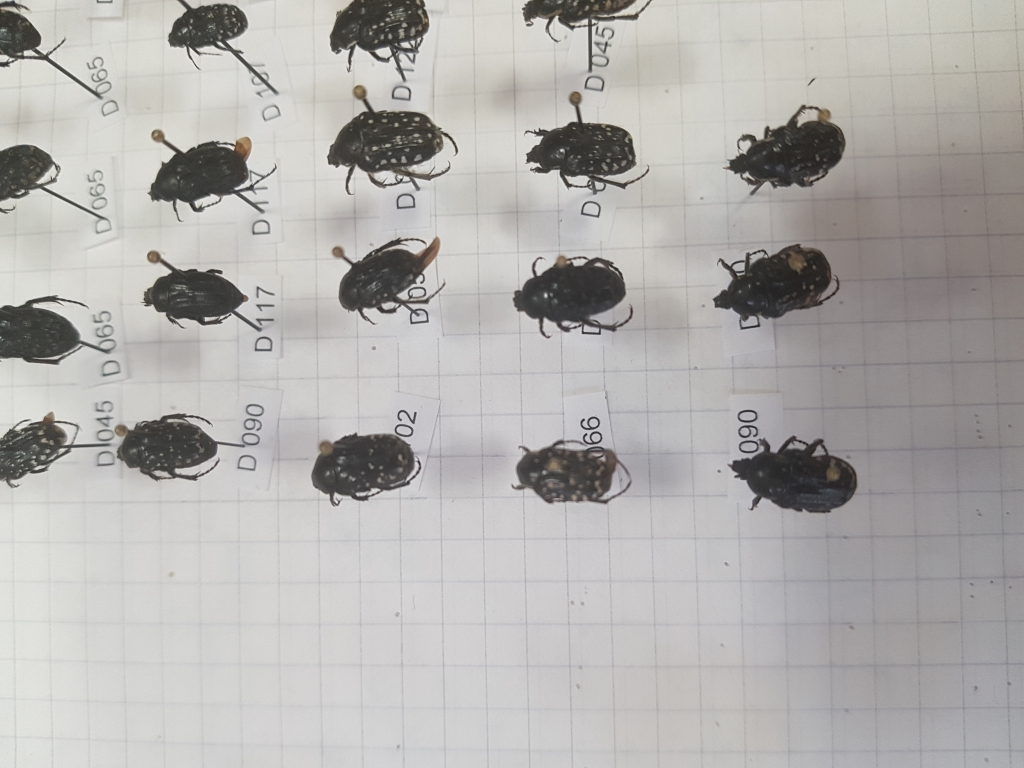Oxythyrea_cinctella: (321, 104, 469, 199), (138, 134, 268, 227), (513, 252, 632, 344), (520, 113, 647, 186), (141, 265, 259, 331)
